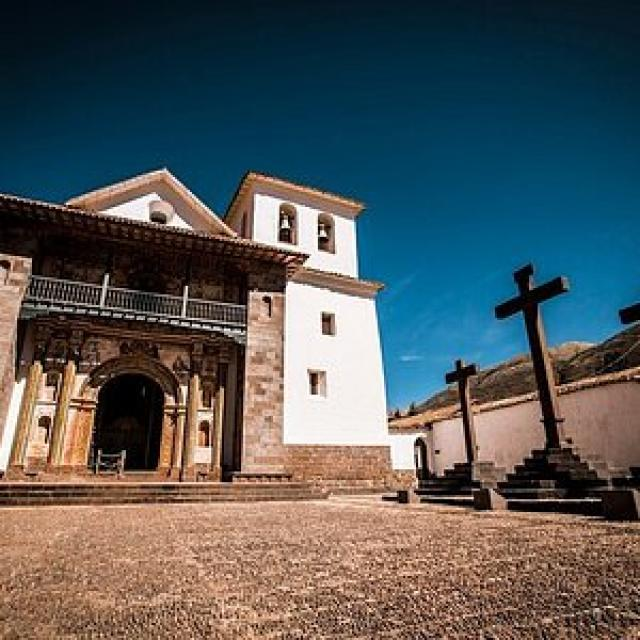6: (241, 156, 407, 496)
CUPULA: (0, 69, 492, 522)
SIMETRIA COLONIAL: (51, 318, 197, 485)
